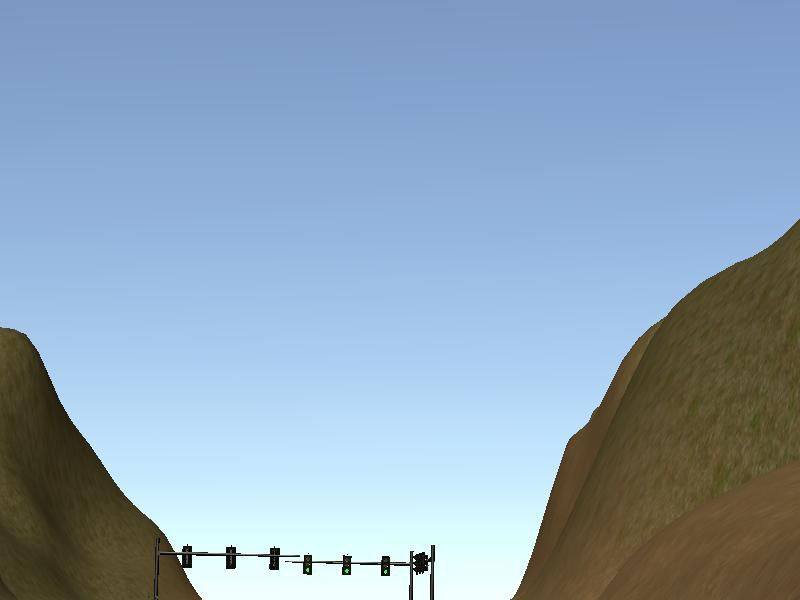green_light: (301, 555, 312, 576), (342, 555, 353, 576), (382, 557, 391, 578)
